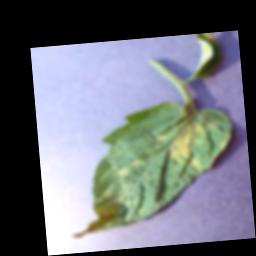Leaf_Mold: (164, 118, 208, 172), (69, 203, 120, 238), (129, 157, 144, 166), (115, 168, 128, 177)
